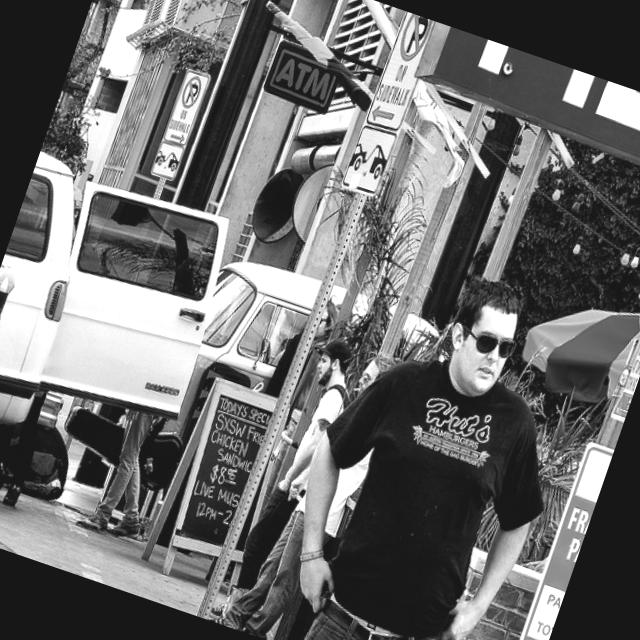Vehicle: (0, 147, 246, 512), (0, 151, 244, 476), (165, 243, 326, 473)
